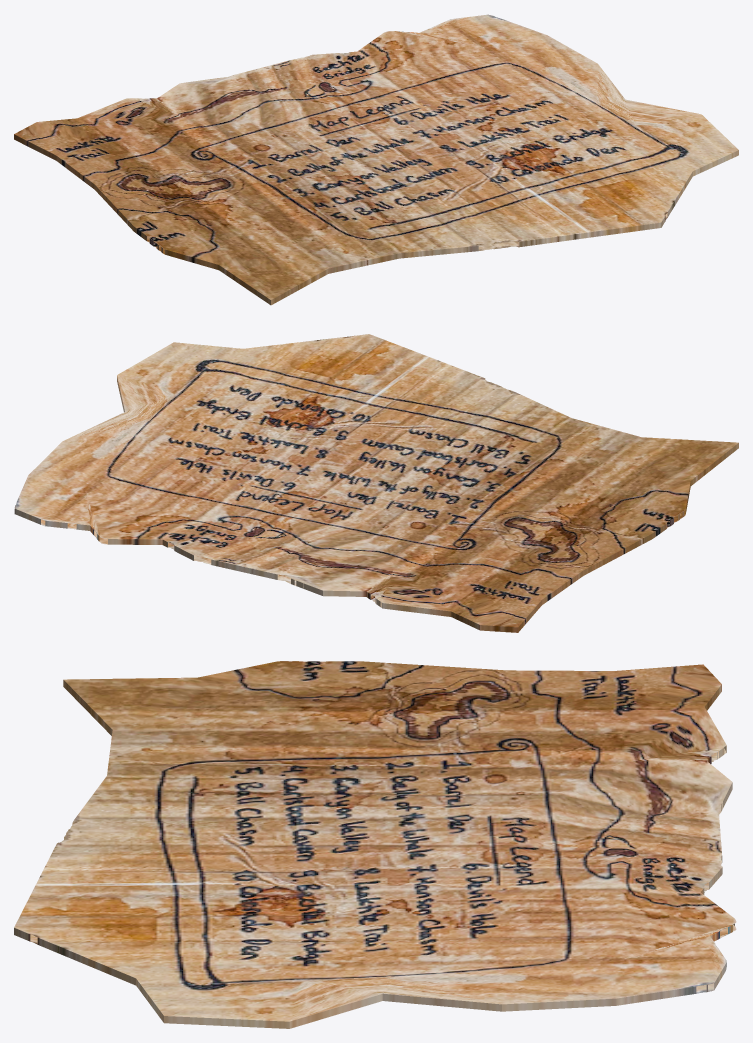
The model's file is Piece1.fbx.
3 views of the same model, one above another, from view 1: azimuth 30°, elevation 25°; view 2: azimuth 150°, elevation 25°; view 3: azimuth 270°, elevation 25° (orthographic). The views are drawn at different scales.
Visible parts, largest first — view 1: map_puzzle4; view 2: map_puzzle4; view 3: map_puzzle4.
Part boxes in pixels (x1,y1,x2,y2): map_puzzle4: [14, 14, 738, 305]; map_puzzle4: [14, 334, 738, 632]; map_puzzle4: [14, 661, 736, 1028].
Bounding box in the file's own units: 2.43 × 0.0228 × 2.06.
